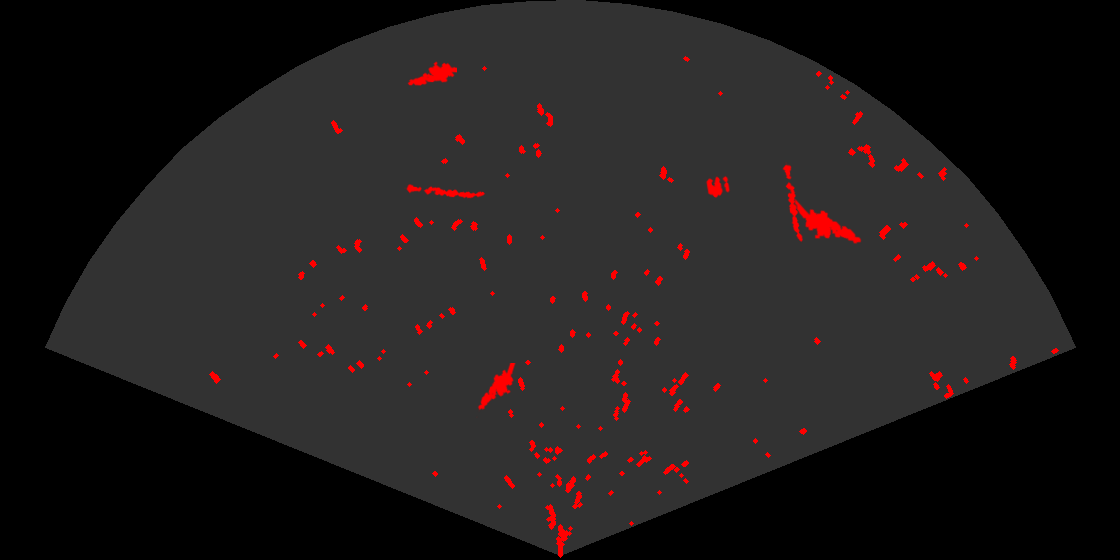ball: (704, 174, 732, 199)
chain: (781, 162, 804, 244), (404, 183, 486, 200)
frogman: (793, 194, 863, 246), (475, 363, 517, 418), (407, 60, 457, 87)
